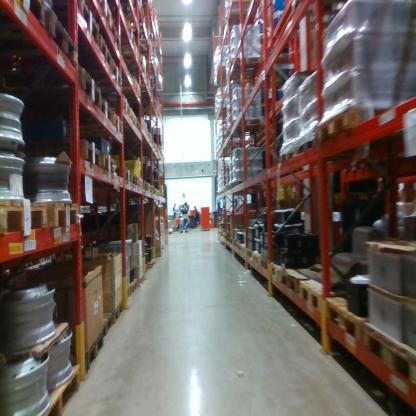pallet: (317, 102, 410, 161), (363, 310, 416, 386), (44, 68, 111, 117), (325, 293, 373, 358), (37, 7, 86, 69), (300, 272, 357, 318), (40, 357, 84, 412), (1, 195, 48, 240), (47, 135, 101, 171), (78, 328, 109, 378), (46, 195, 83, 234), (69, 1, 102, 39), (6, 1, 56, 26), (220, 116, 269, 138), (283, 262, 313, 295), (289, 130, 314, 165), (94, 30, 114, 71), (277, 144, 305, 173), (227, 52, 266, 71), (91, 1, 117, 26), (100, 94, 117, 131), (98, 146, 117, 178), (114, 40, 141, 60), (115, 88, 131, 119), (97, 307, 114, 336), (268, 258, 286, 284), (111, 109, 126, 139), (111, 297, 126, 327), (112, 19, 125, 52), (110, 57, 121, 87), (260, 254, 271, 278), (130, 276, 140, 300), (243, 244, 255, 263), (121, 166, 133, 185), (253, 249, 263, 269), (129, 102, 137, 125), (130, 169, 138, 191), (135, 113, 143, 134), (137, 173, 145, 191), (126, 278, 131, 302), (180, 227, 190, 235), (201, 227, 209, 230)
